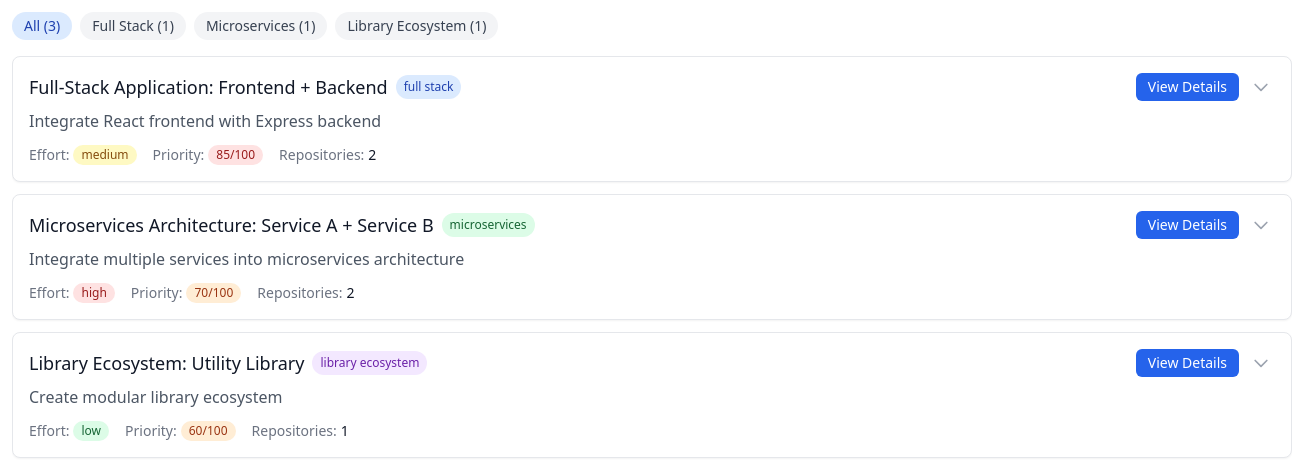
Test: IntegrationOpportunities › should filter opportunities by type
// Click on full-stack filter
What coordinates should you click on to do the following:
click the button "full stack (1)"
I would click on:
 (133, 26)
Its box is left=80, top=12, right=186, bottom=40.
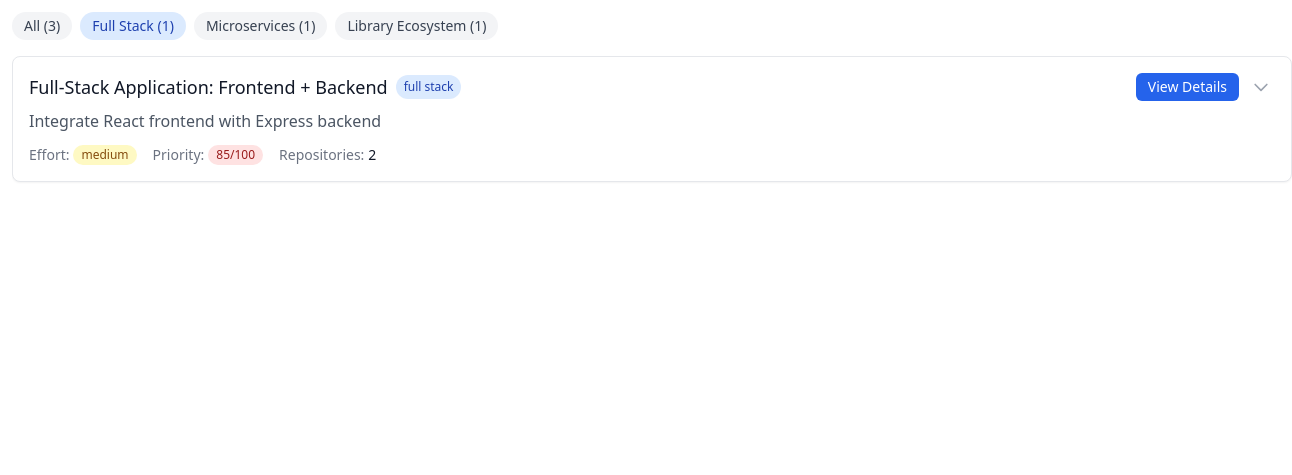
Expected: the heading "Full-Stack Application: Frontend + Backend" is shown, left=29, top=73, right=388, bottom=101
Expected: the heading "Microservices Architecture: Service A + Service B" is gone
Expected: the heading "Library Ecosystem: Utility Library" is gone
